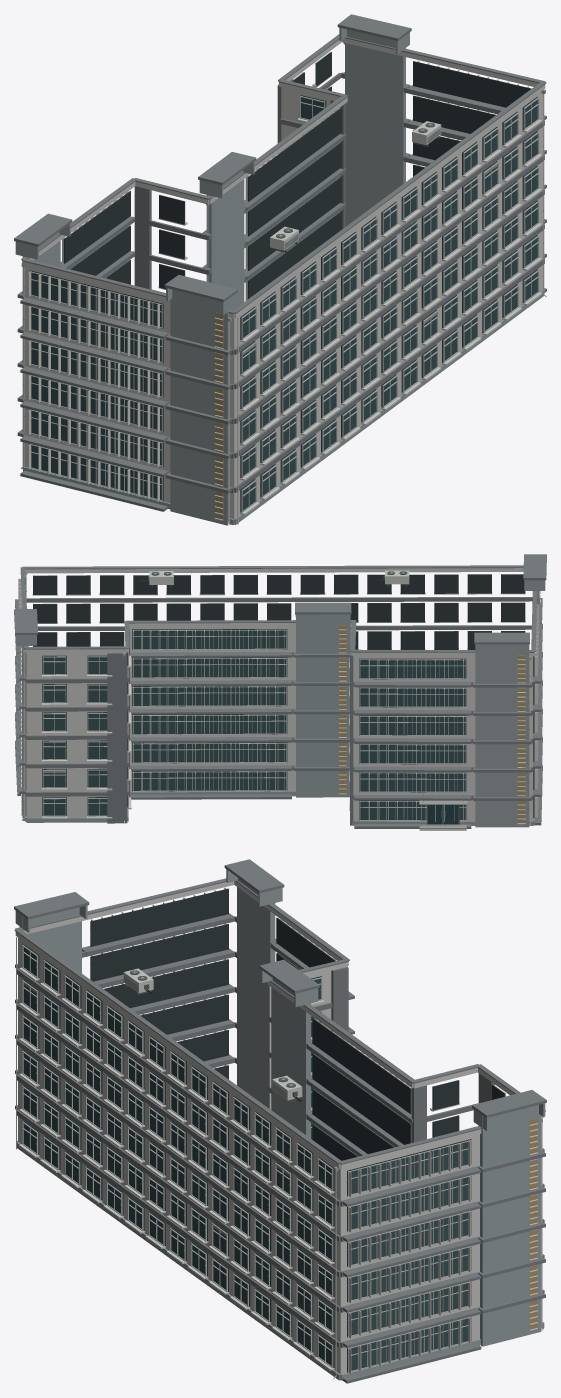
The model's file is osm_way_1173057034.glb.
3 views of the same model, one above another, from view 1: azimuth 30°, elevation 25°; view 2: azimuth 150°, elevation 25°; view 3: azimuth 270°, elevation 25° (orthographic). The views are drawn at different scales.
Visible parts, largest first — view 1: Windows and facade details | 樱苑51栋, Architecture | 樱苑51栋, Roof services | 樱苑51栋, EXTERIOR::osm_way_1173057034::rainwater and roof service det; view 2: Architecture | 樱苑51栋, Windows and facade details | 樱苑51栋, Roof services | 樱苑51栋, EXTERIOR::osm_way_1173057034::rainwater and roof service det, EXTERIOR::osm_way_1173057034::inferred entry doors canopy an; view 3: Windows and facade details | 樱苑51栋, Architecture | 樱苑51栋, Roof services | 樱苑51栋, EXTERIOR::osm_way_1173057034::rainwater and roof service det.
Part boxes in pixels (x1,y1,x2,y2): Windows and facade details | 樱苑51栋: (28, 52, 541, 524); Architecture | 樱苑51栋: (17, 29, 546, 525); Roof services | 樱苑51栋: (14, 14, 546, 315); EXTERIOR::osm_way_1173057034::rainwater and roof service det: (20, 43, 546, 524); Architecture | 樱苑51栋: (15, 568, 542, 828); Windows and facade details | 樱苑51栋: (18, 574, 540, 824); Roof services | 樱苑51栋: (14, 554, 546, 655); EXTERIOR::osm_way_1173057034::rainwater and roof service det: (22, 570, 531, 826); EXTERIOR::osm_way_1173057034::inferred entry doors canopy an: (419, 794, 467, 830); Windows and facade details | 樱苑51栋: (16, 887, 537, 1373); Architecture | 樱苑51栋: (15, 878, 545, 1383); Roof services | 樱苑51栋: (14, 859, 546, 1164); EXTERIOR::osm_way_1173057034::rainwater and roof service det: (123, 968, 542, 1378).
Bounding box in the file's own units: 56.67 × 21.28 × 43.76.
